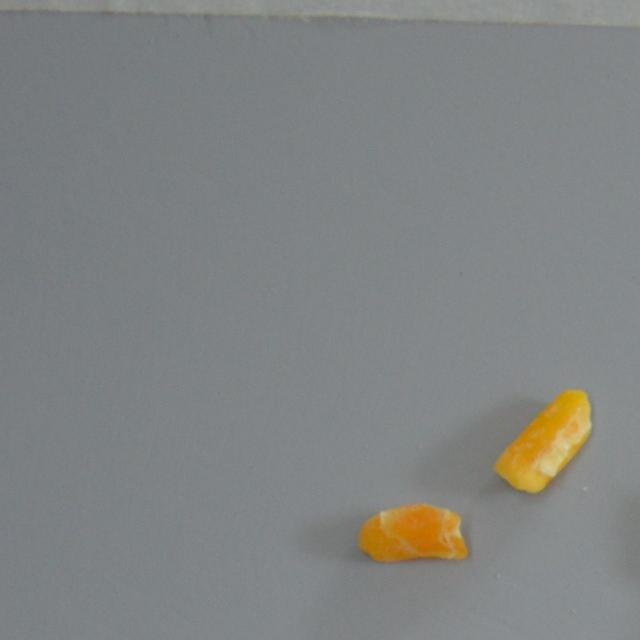dañado: (488, 381, 598, 500), (353, 500, 475, 568)
